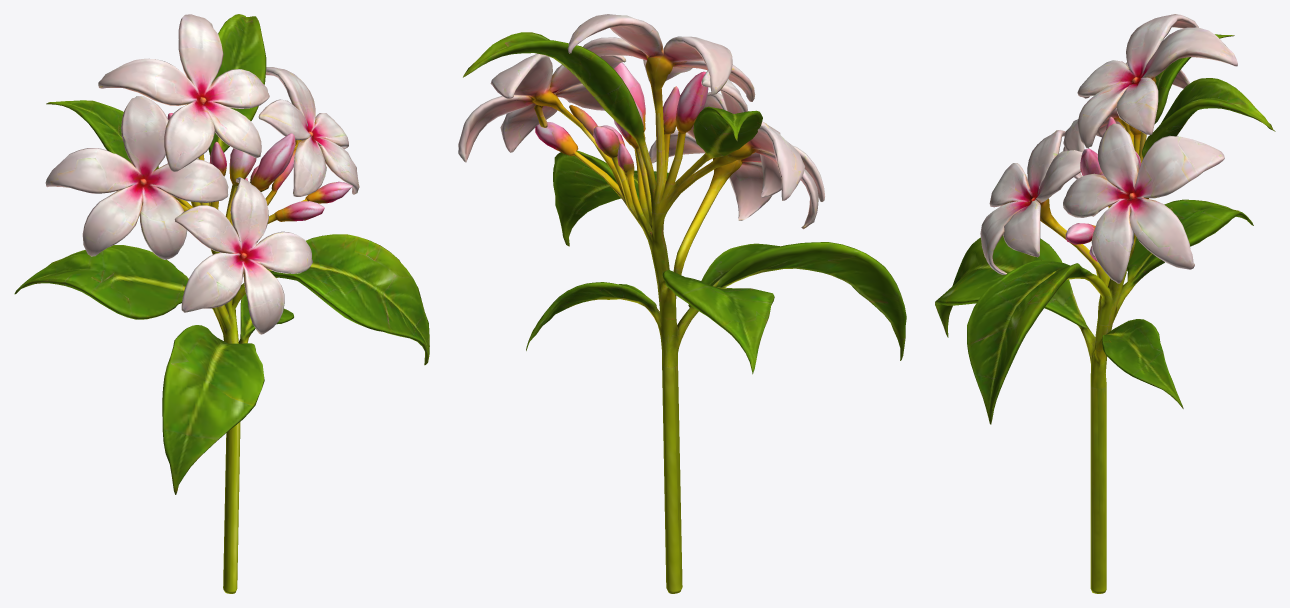
File: kopsia.glb
3 renders of one model, left to right at view 1: azimuth 30°, elevation 25°; view 2: azimuth 150°, elevation 25°; view 3: azimuth 270°, elevation 25°, orthographic. The views are drawn at different scales.
Parts seen in each view (by area): view 1: geometry_0; view 2: geometry_0; view 3: geometry_0.
Part boxes in pixels (<box>): geometry_0: <box>14,14,429,593</box>; geometry_0: <box>458,14,906,593</box>; geometry_0: <box>935,14,1275,593</box>.
Size of the model in its own units: 0.5483 by 0.9517 by 0.5215.
Materials: 1 (1 with a texture image).
